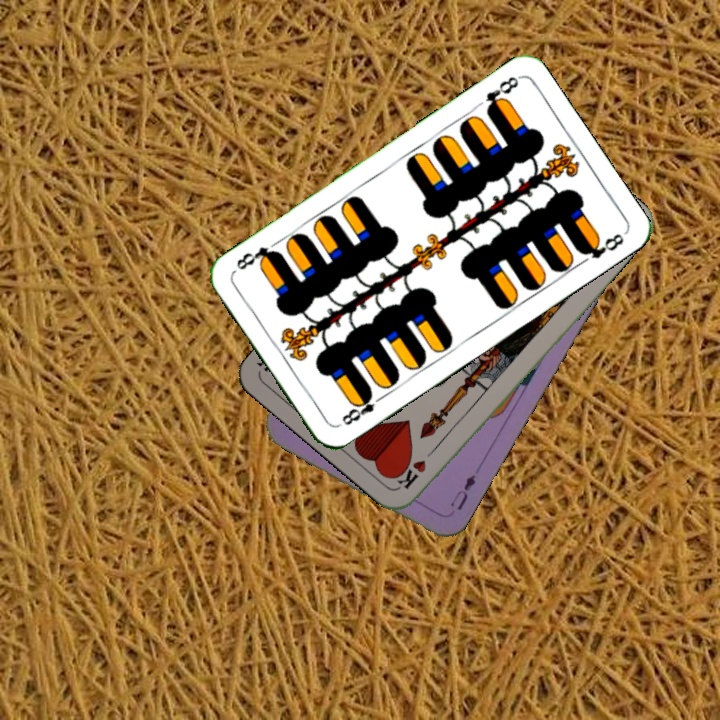E8: (337, 387, 387, 428), (481, 72, 522, 117)
EU: (446, 470, 479, 513)
HK: (394, 441, 441, 492)
